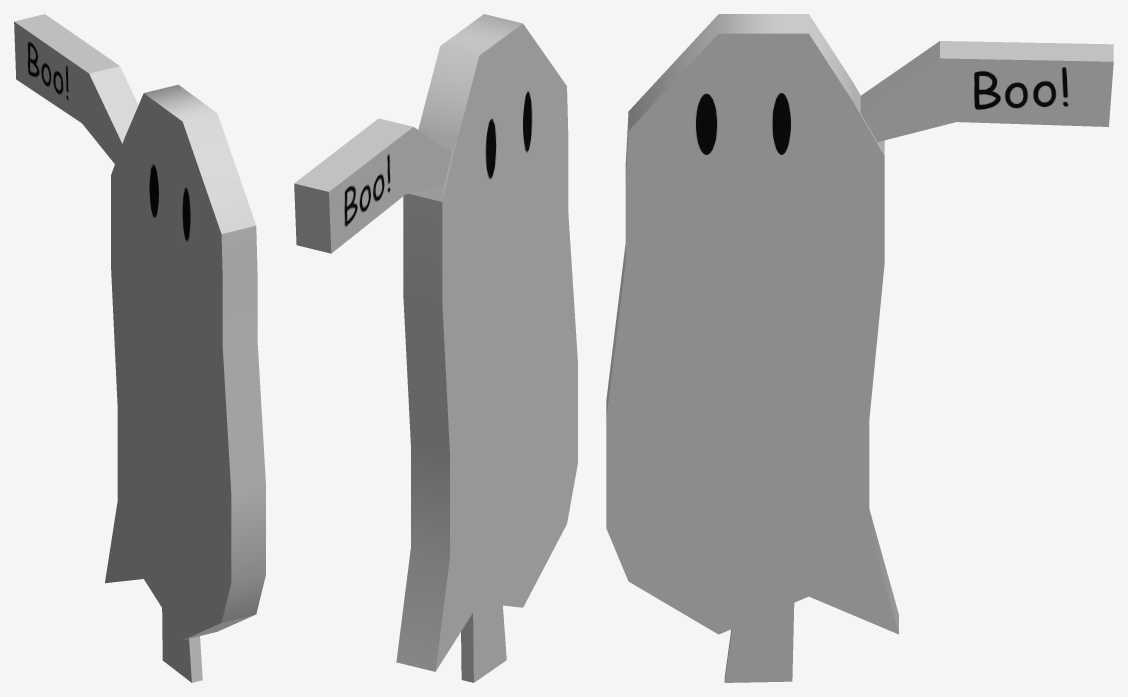
Rendered from Ghost.FBX.
3 renders of one model, left to right at view 1: azimuth 30°, elevation 25°; view 2: azimuth 150°, elevation 25°; view 3: azimuth 270°, elevation 25°, orthographic. The views are drawn at different scales.
Visible parts, largest first — view 1: Box001; view 2: Box001; view 3: Box001.
Part boxes in pixels (x1,y1,x2,y2): Box001: [14, 14, 265, 682]; Box001: [294, 14, 577, 682]; Box001: [606, 14, 1113, 682].
Size of the model in its own units: 1.78 by 27.73 by 19.44.
1 material, 1 textured.
